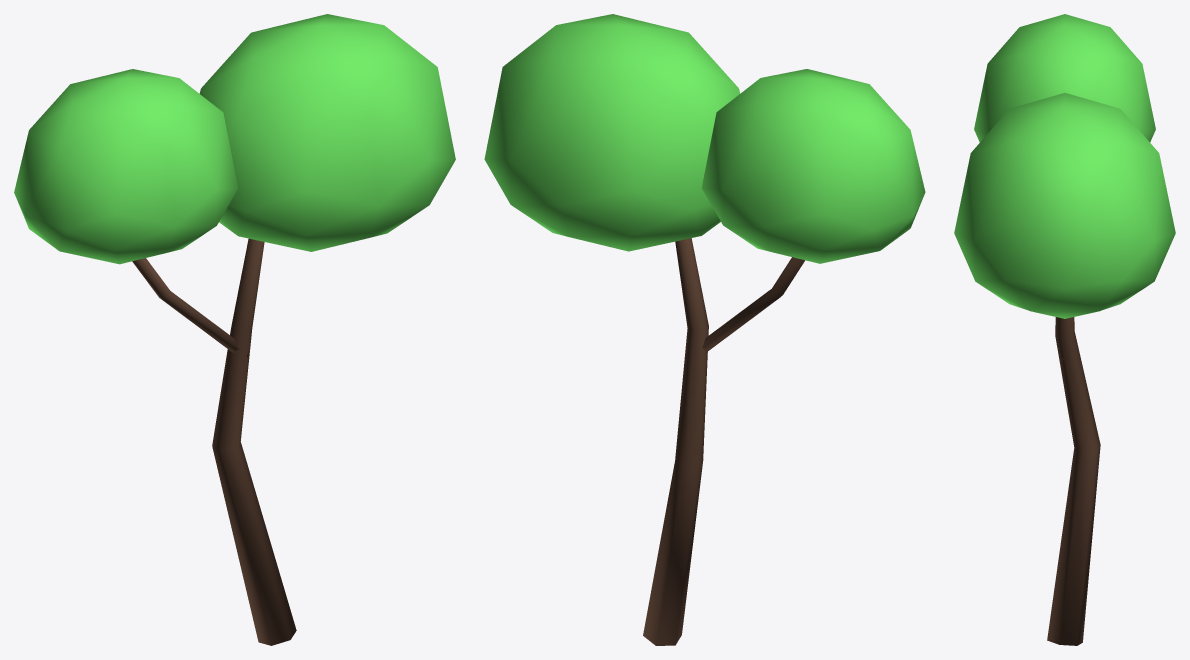
File: RoundTree_Small1.fbx
3 views of the same model, side by side, from view 1: azimuth 30°, elevation 25°; view 2: azimuth 150°, elevation 25°; view 3: azimuth 270°, elevation 25° (orthographic). The views are drawn at different scales.
Visible parts, largest first — view 1: RoundTree_Small1.001, RoundTree_Small1.002, RoundTree_Small1; view 2: RoundTree_Small1.001, RoundTree_Small1.002, RoundTree_Small1; view 3: RoundTree_Small1.001, RoundTree_Small1.002, RoundTree_Small1.
Part boxes in pixels (x1,y1,x2,y2): RoundTree_Small1.001: (199,14,455,251); RoundTree_Small1.002: (14,69,238,264); RoundTree_Small1: (132,238,296,645); RoundTree_Small1.001: (484,14,740,251); RoundTree_Small1.002: (701,69,925,263); RoundTree_Small1: (643,238,804,645); RoundTree_Small1.001: (954,93,1175,318); RoundTree_Small1.002: (974,14,1155,142); RoundTree_Small1: (1047,317,1100,645).
Bounding box in the file's own units: 613 × 848 × 306.
